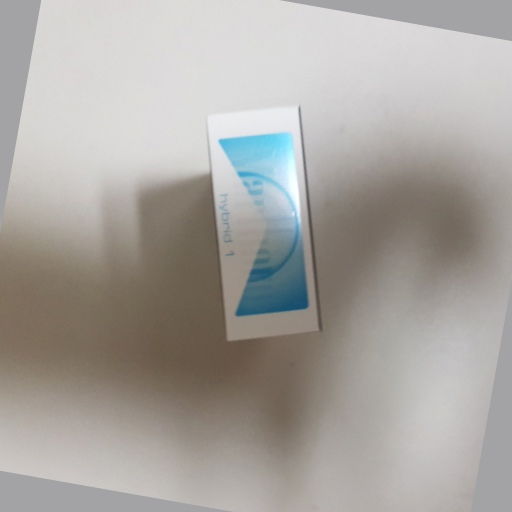Paper_0: (186, 102, 345, 345)
